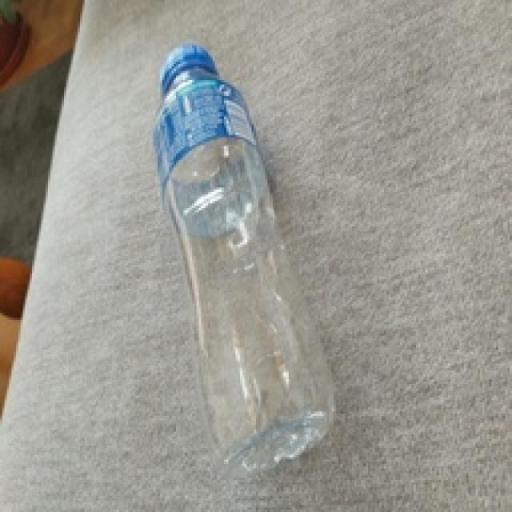plastic: (150, 38, 340, 489)
